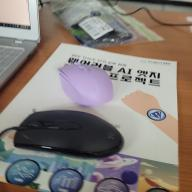mouse: (56, 62, 115, 107)
